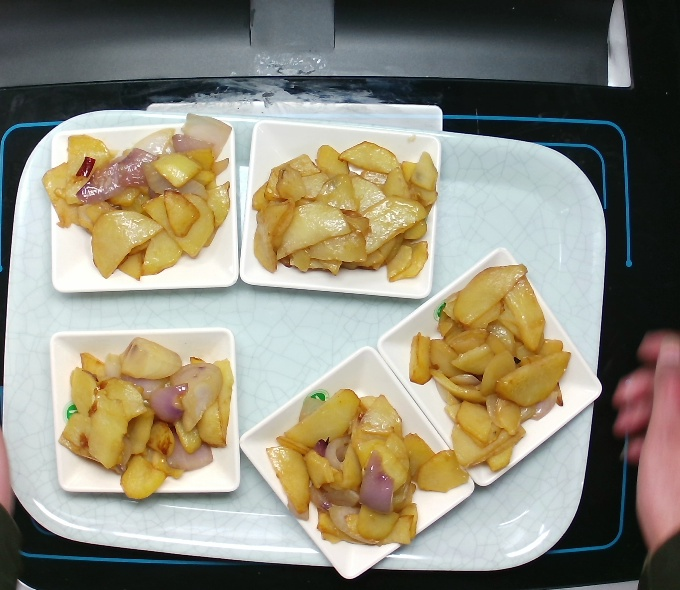wcq-TuDouPian: (401, 260, 576, 477), (264, 381, 468, 550), (43, 116, 229, 279), (53, 338, 239, 501), (251, 137, 436, 282)
